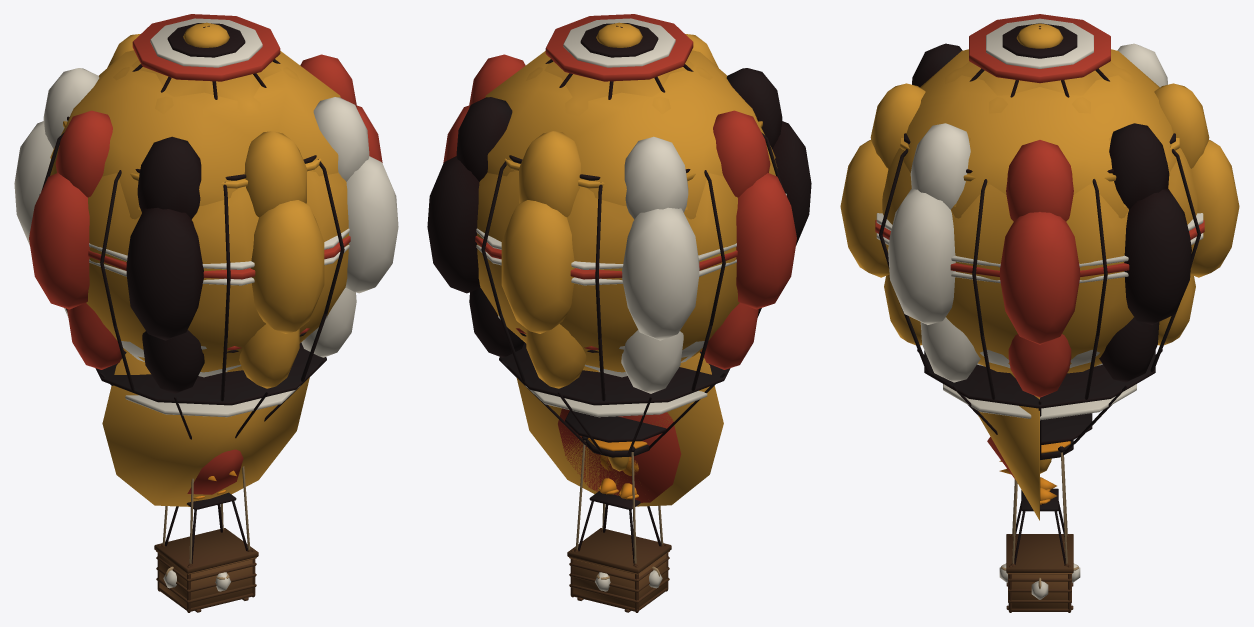
Rendered from safari_balloon.glb.
3 renders of one model, left to right at view 1: azimuth 30°, elevation 25°; view 2: azimuth 150°, elevation 25°; view 3: azimuth 270°, elevation 25°, orthographic.
Visible parts, largest first — view 1: safari_balloon; view 2: safari_balloon; view 3: safari_balloon.
Boxes of the visible parts, x1,y1,x2,y2 form: safari_balloon: [14, 14, 398, 612]; safari_balloon: [427, 14, 811, 612]; safari_balloon: [840, 14, 1239, 612].
Size of the model in its own units: 10.18 by 16.05 by 10.18.
